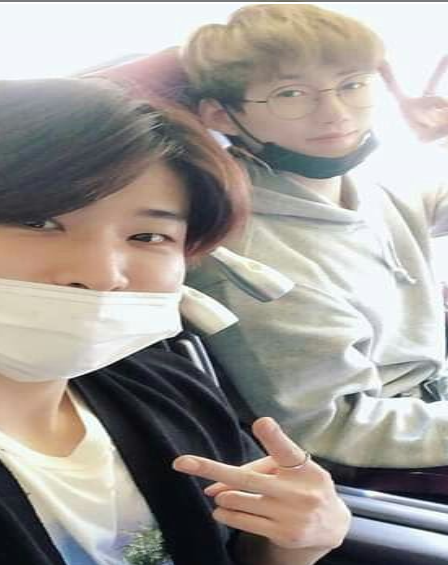mask_weared_incorrect: (1, 79, 219, 386), (186, 5, 394, 180)
